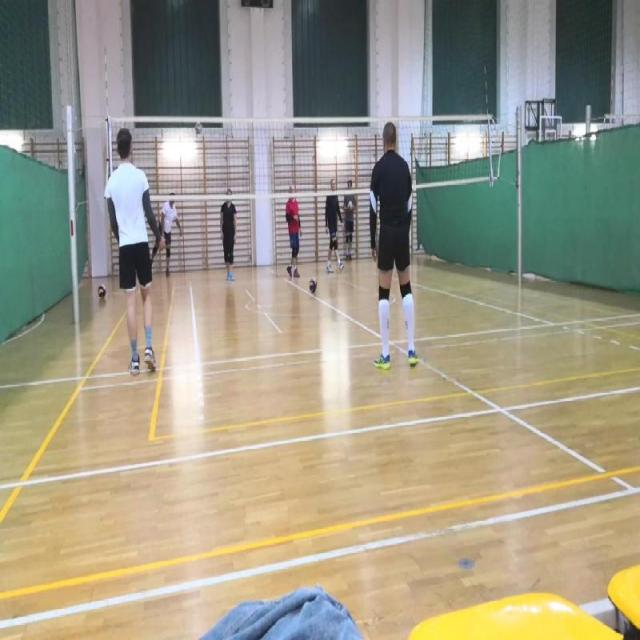volleyball: (98, 284, 106, 298), (309, 278, 317, 292), (195, 121, 202, 133)
